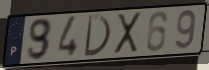4: (56, 14, 80, 61)
6: (144, 10, 168, 54)
9: (26, 16, 55, 62), (174, 8, 198, 52)
D: (82, 13, 113, 58)
X: (113, 11, 143, 57)
